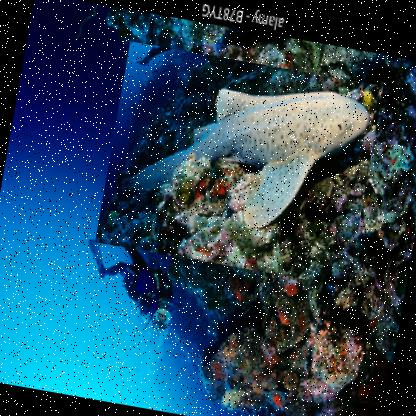zebra_shark: (94, 40, 384, 286)
